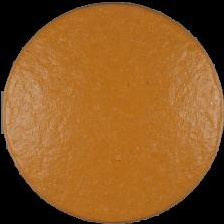51079-466: (0, 0, 224, 224)
